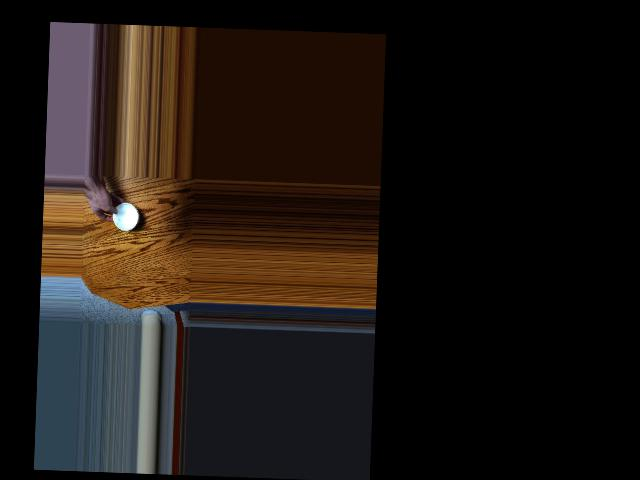cotage: (106, 199, 138, 232)
